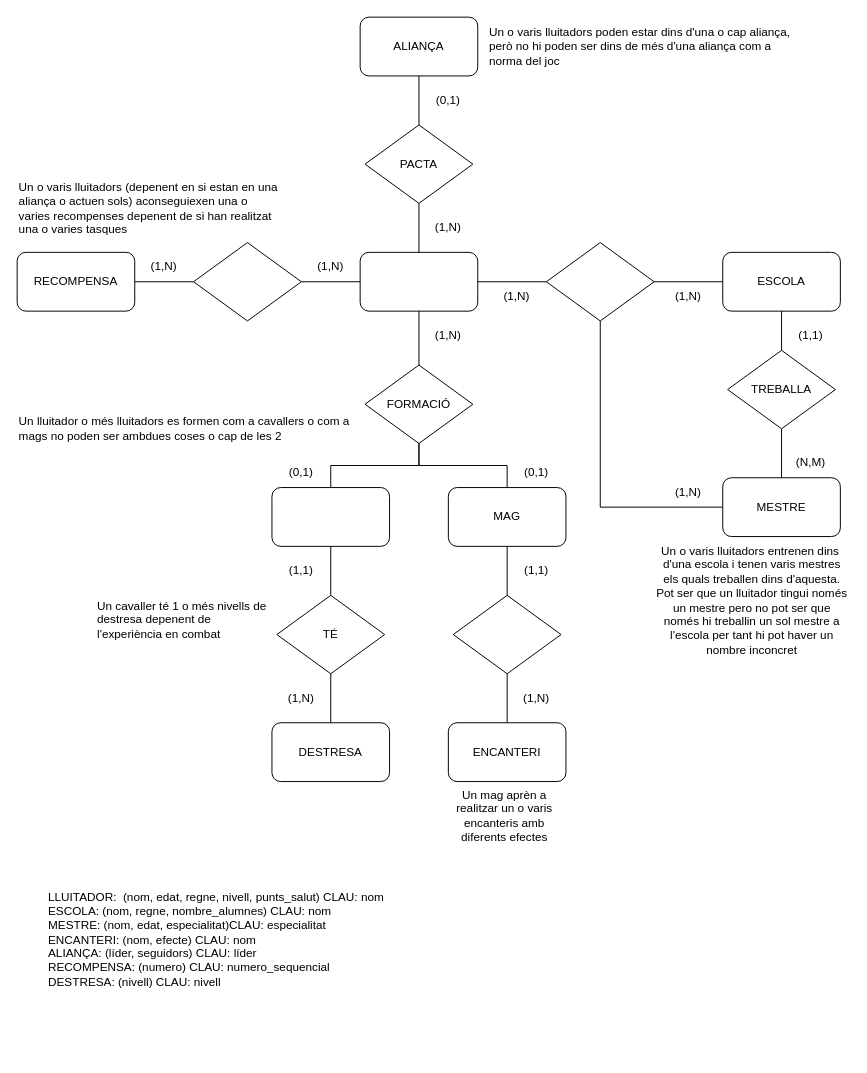
Image size: 867x1073. Some labels were removed from this diagram. Each missing label, with the centre of its shape:
"CAVALLER" goes at pixel 330 516.
"ENTRENA" goes at pixel 599 281.
"LLUITADOR" goes at pixel 418 281.
"OBTÉ" goes at pixel 247 281.
"REALITZA" goes at pixel 506 634.
